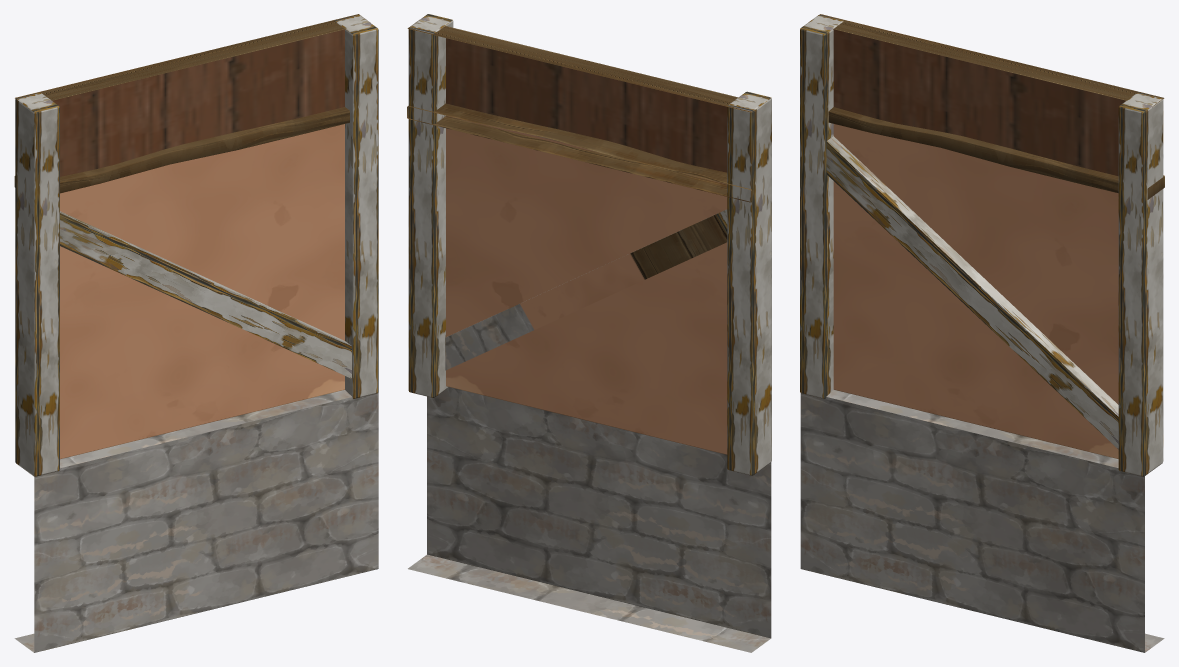
The picture shows the model from 3 angles, left to right: view 1: azimuth 30°, elevation 25°; view 2: azimuth 150°, elevation 25°; view 3: azimuth 330°, elevation 25°; orthographic projection.
Visible parts, largest first — view 1: W3x2A; view 2: W3x2A; view 3: W3x2A.
Part boxes in pixels (box(x1,y1,x2,y2)): W3x2A: box(14, 14, 378, 652); W3x2A: box(407, 14, 771, 652); W3x2A: box(800, 14, 1164, 652).
Bounding box in the file's own units: 2 × 3 × 0.2072.
1 material, 1 textured.
